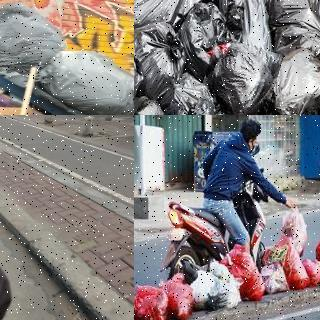Garbage: (197, 39, 278, 115), (40, 49, 134, 114), (179, 0, 242, 80), (0, 0, 66, 74), (134, 22, 190, 102), (268, 44, 320, 115), (264, 3, 320, 61), (215, 242, 265, 300), (264, 232, 312, 288), (183, 263, 243, 307), (156, 268, 197, 319), (134, 274, 176, 320), (279, 200, 312, 254), (167, 90, 225, 115), (259, 259, 292, 293), (312, 232, 320, 280)
